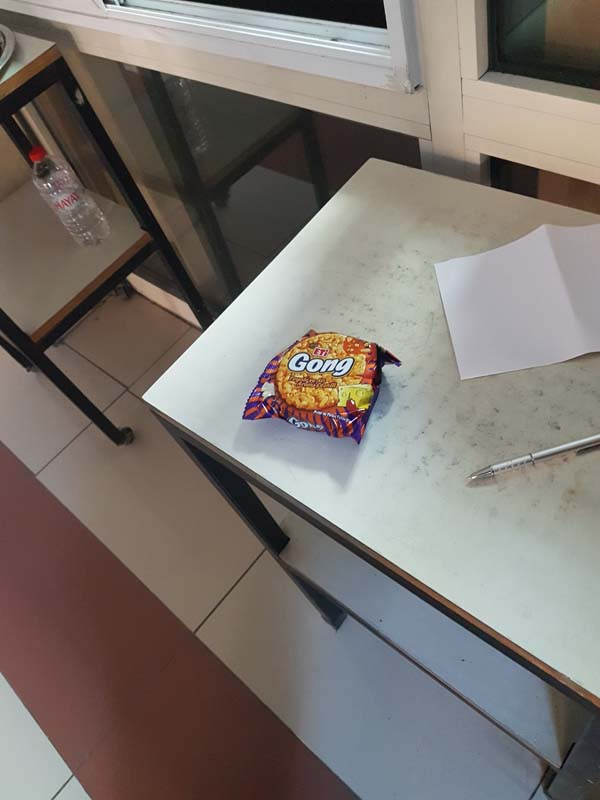etigong: (238, 315, 406, 445)
